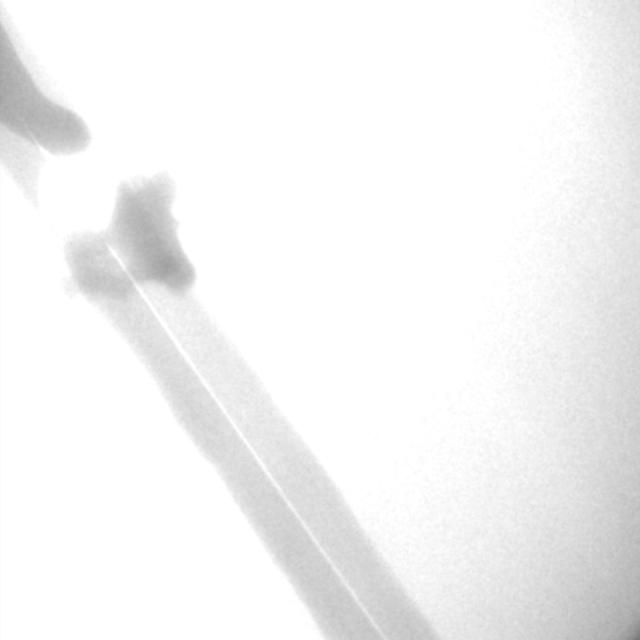broken arc: (36, 142, 385, 638)
